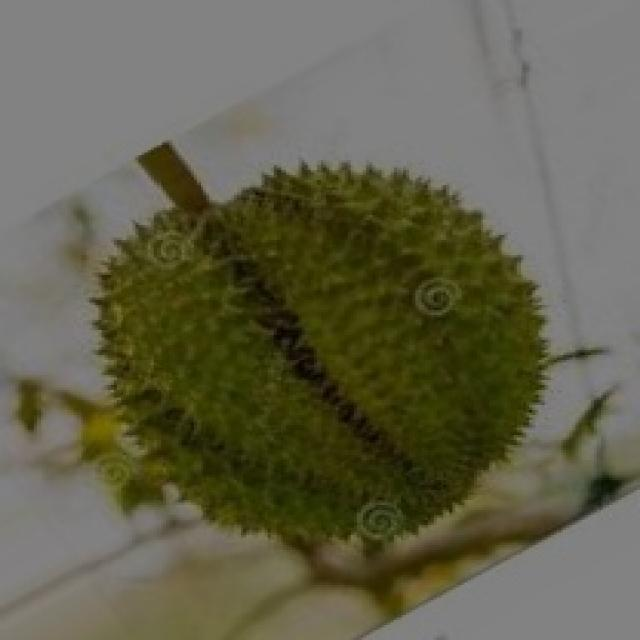fruit: (40, 168, 385, 588), (261, 160, 597, 590)
